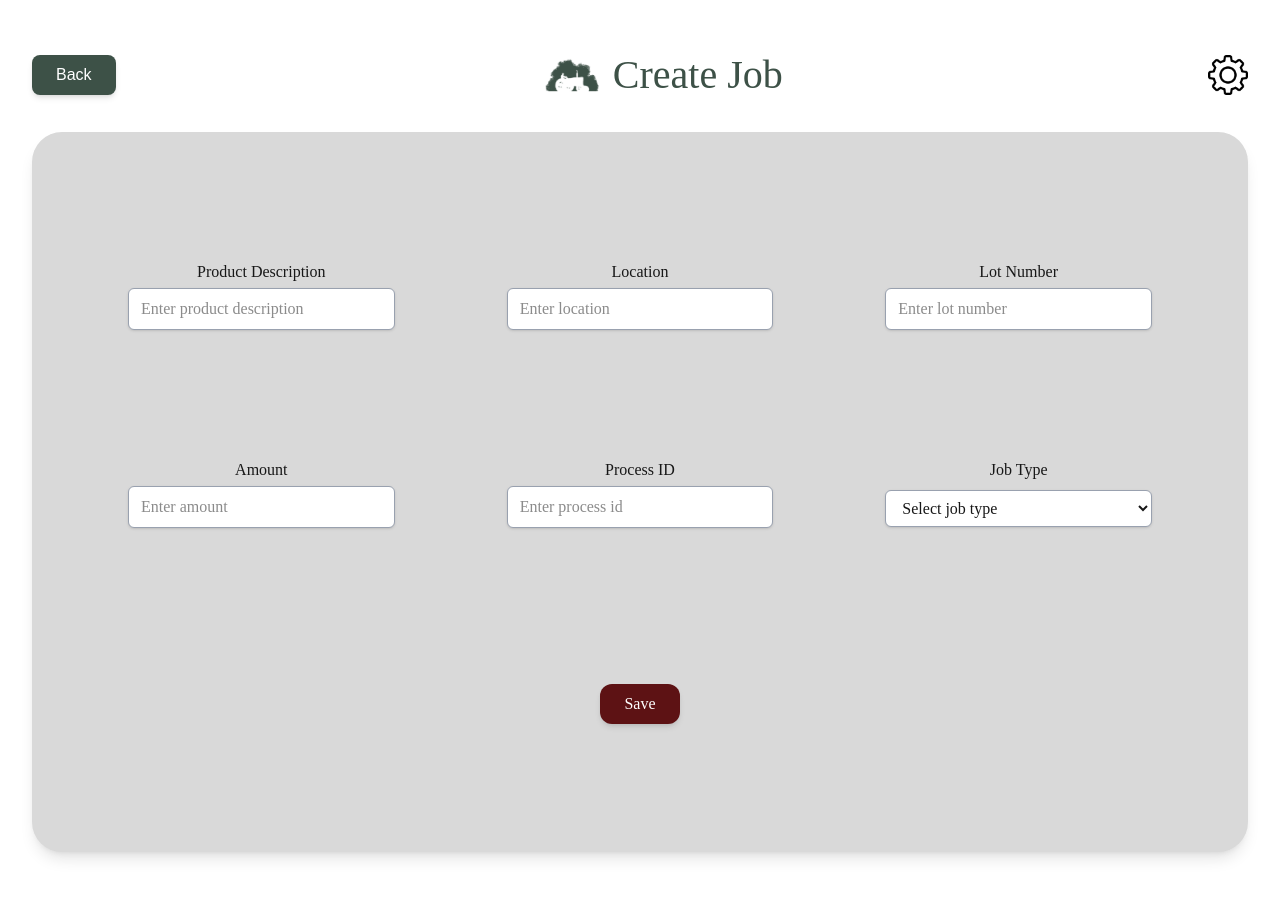
Test: CreateJob page › shows error when required fields are empty
Click the button "Save" at (640, 704), box [600,684,680,724]
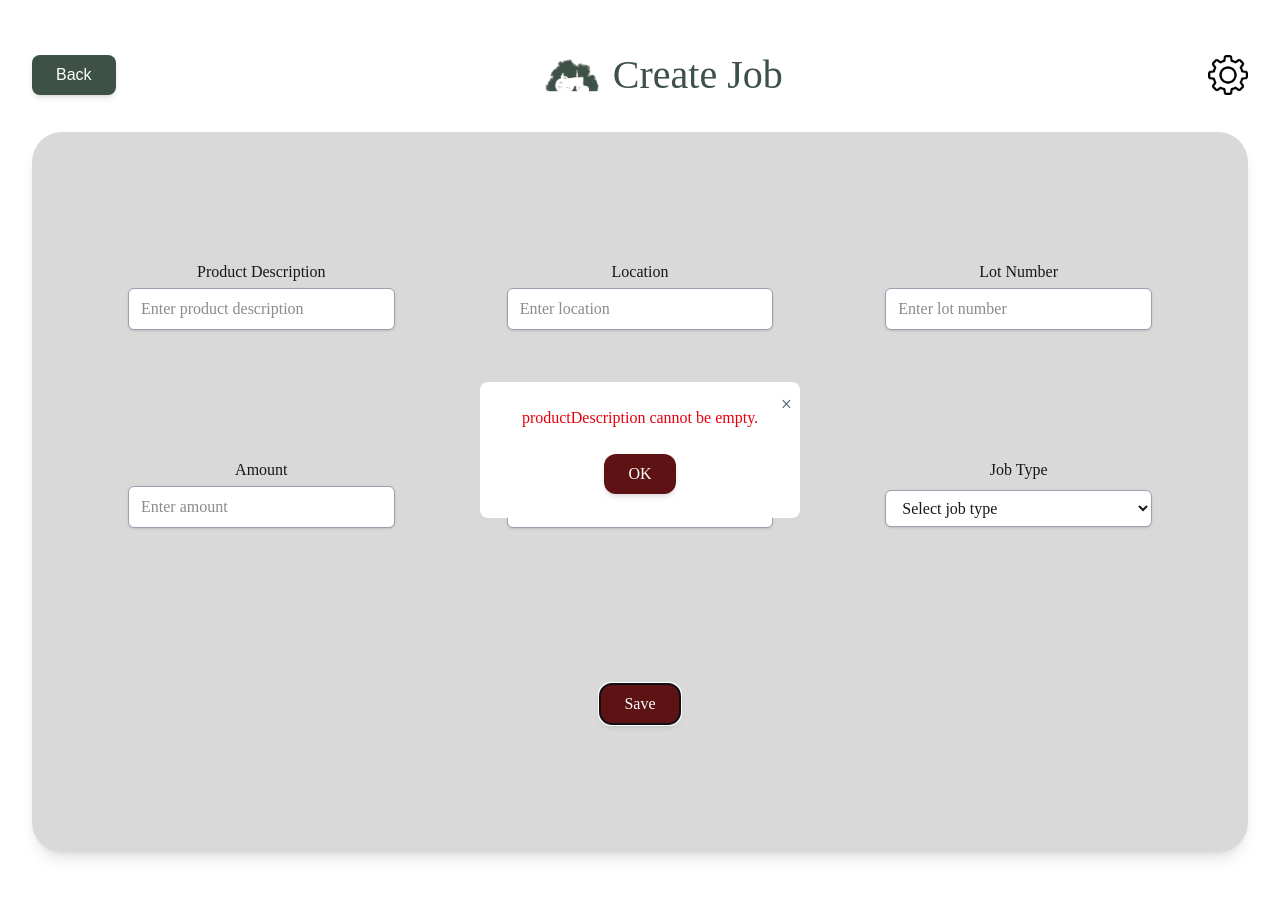
Check: the text "productDescription cannot be empty." is shown, box [504,406,776,430]
